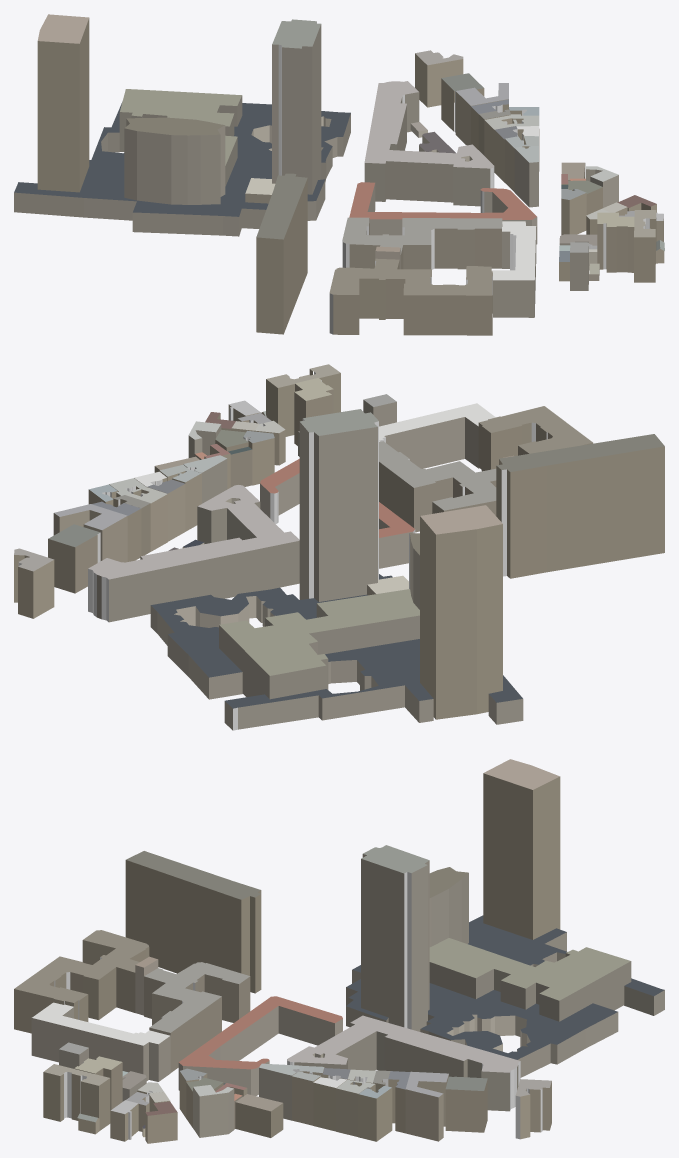
3 renders of one model, top to bottom at view 1: azimuth 30°, elevation 25°; view 2: azimuth 150°, elevation 25°; view 3: azimuth 270°, elevation 25°, orthographic. The views are drawn at different scales.
Parts seen in each view (by area): view 1: tuile; view 2: tuile; view 3: tuile.
Boxes of the visible parts, x1,y1,x2,y2 form: tuile: [14, 14, 664, 335]; tuile: [14, 364, 664, 730]; tuile: [14, 759, 664, 1143].
Bounding box in the file's own units: 281 × 98.22 × 341.
